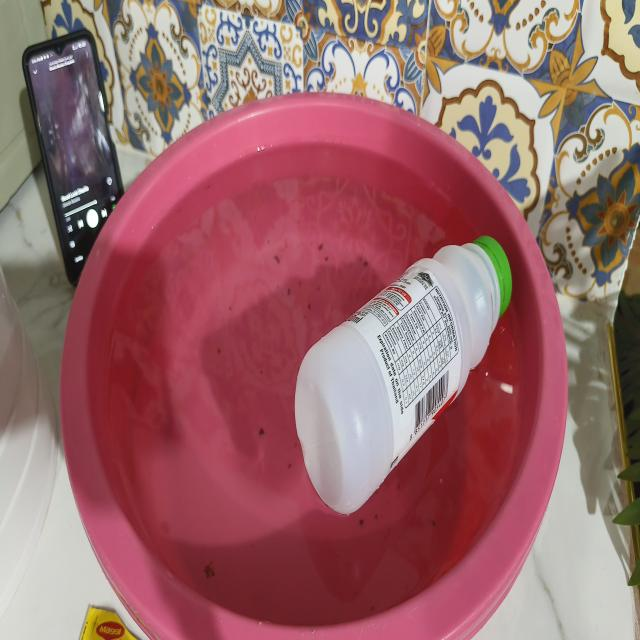Plastic Bottle: (295, 236, 512, 514)
